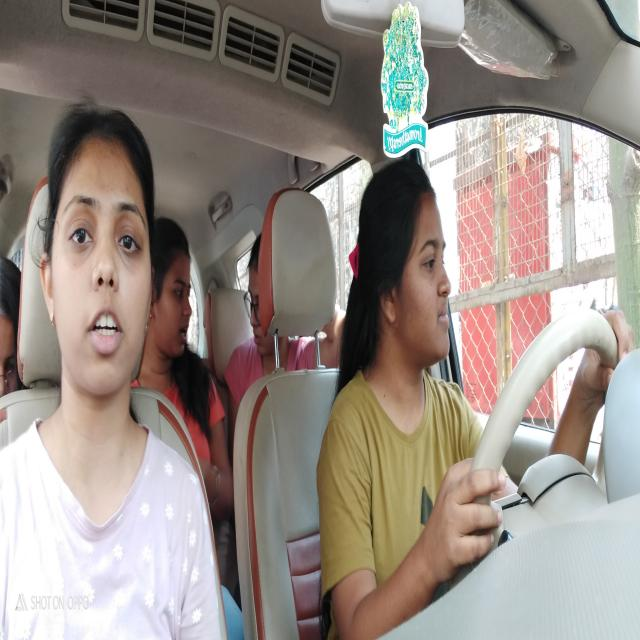person: (49, 119, 152, 388), (380, 180, 456, 362), (158, 224, 195, 362), (246, 244, 274, 364), (0, 292, 21, 398)
